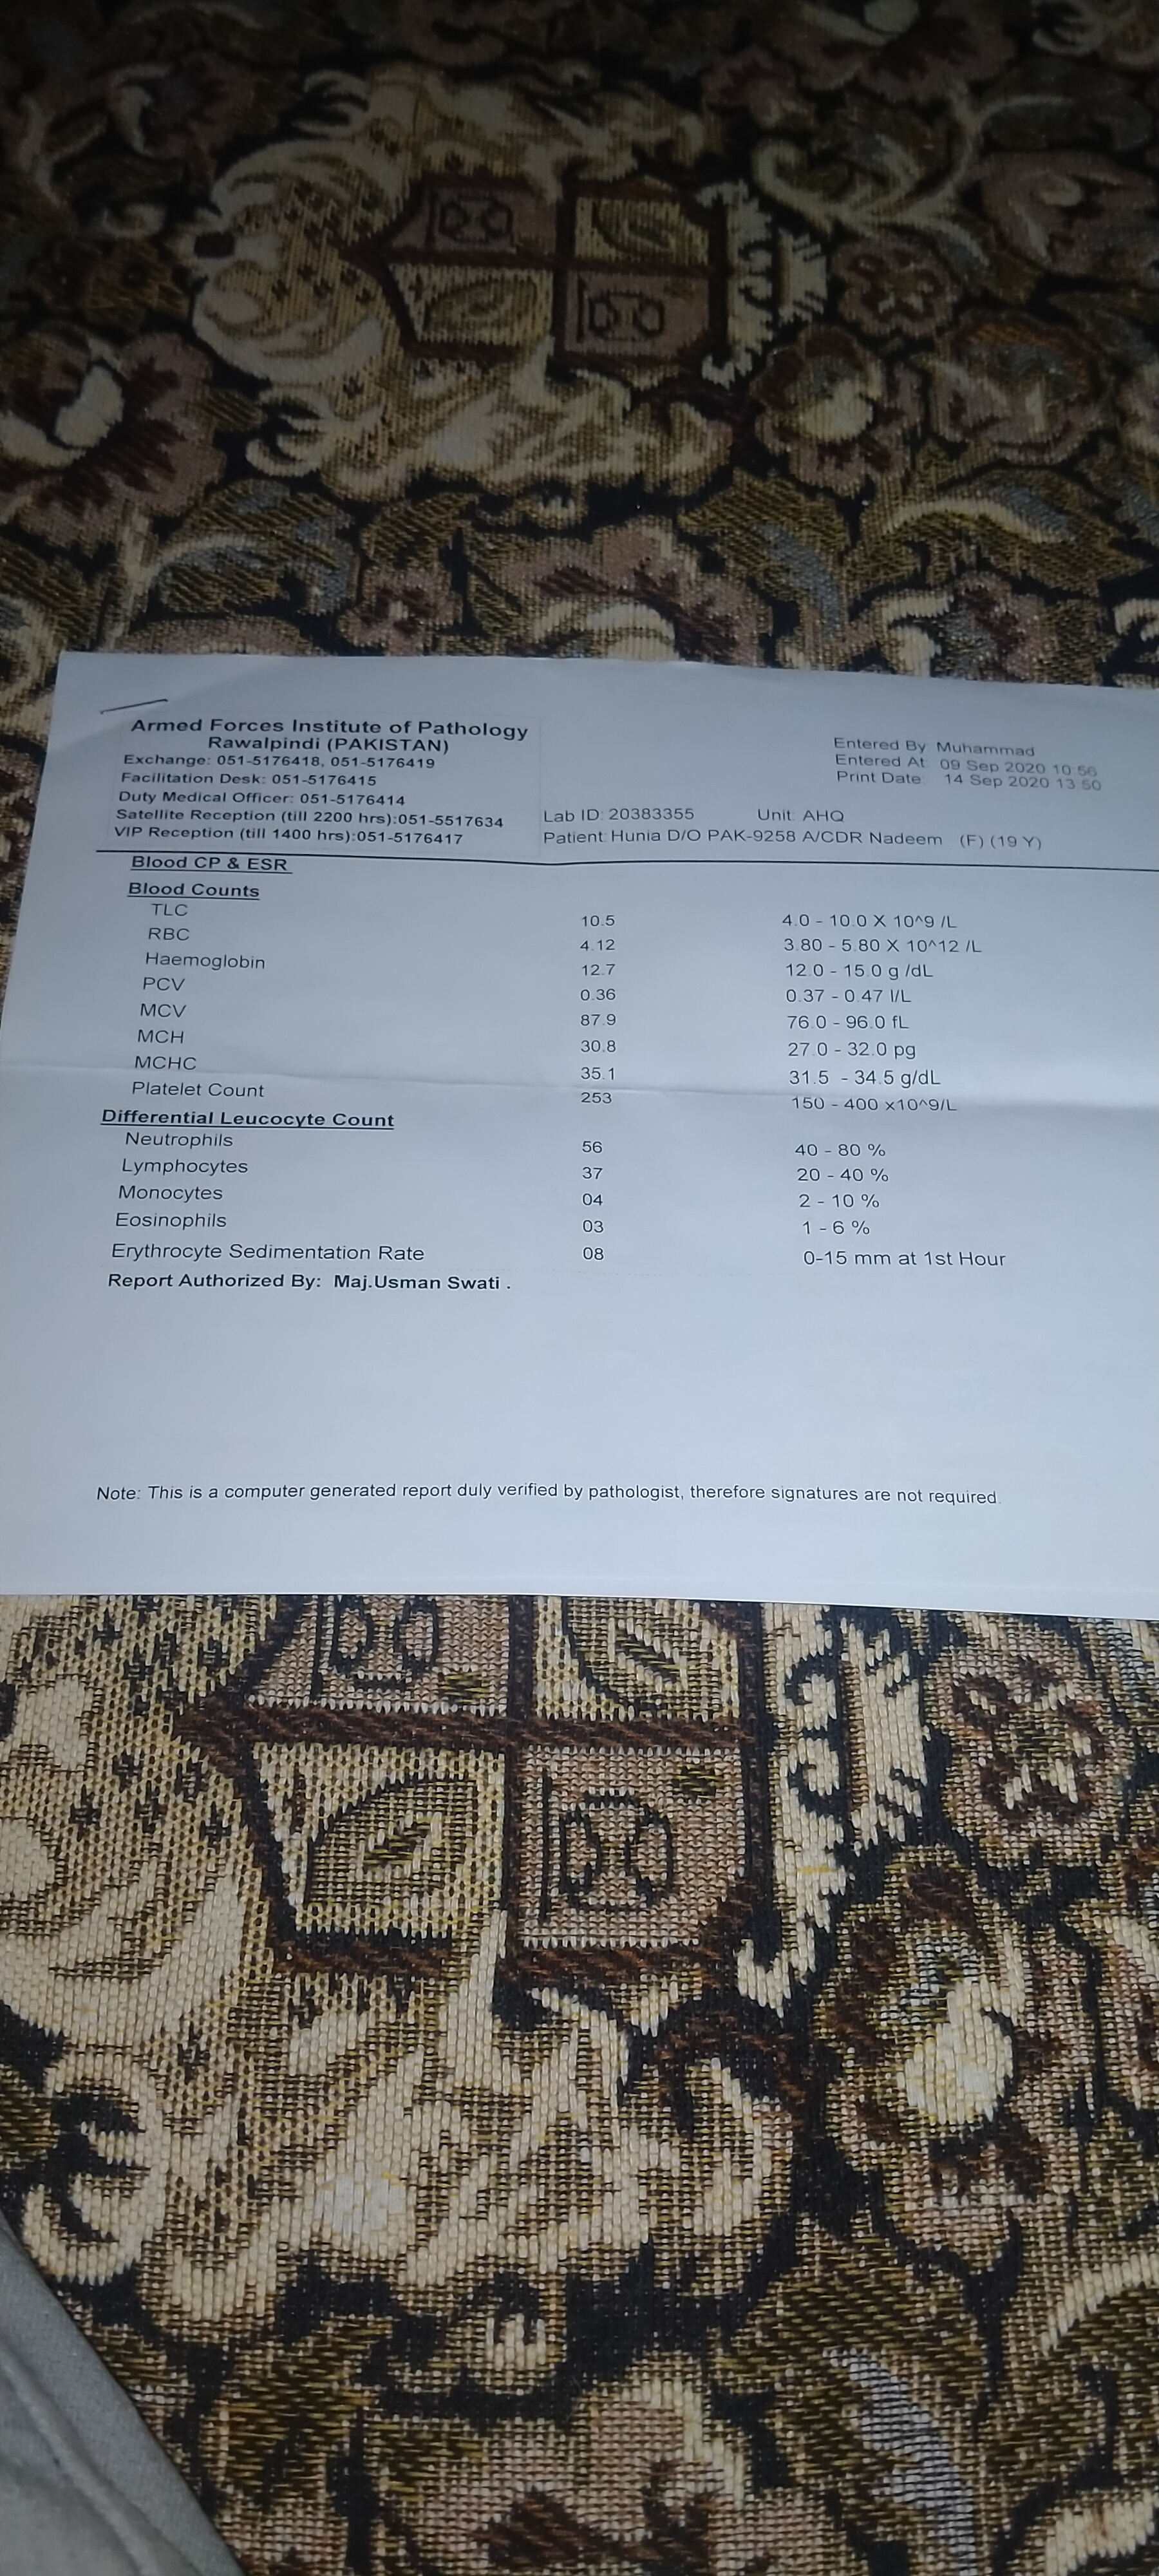report: (69, 849, 1159, 1322)
